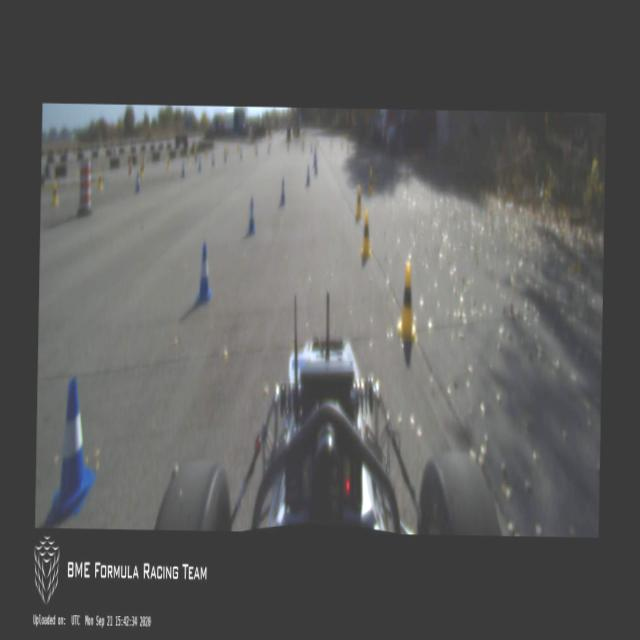blue_cone: (52, 375, 97, 514), (195, 242, 212, 304), (246, 198, 256, 235), (278, 178, 286, 207), (134, 172, 140, 192), (180, 160, 186, 180), (306, 165, 310, 188), (314, 158, 318, 175), (312, 150, 316, 167), (197, 156, 201, 172), (238, 147, 242, 162), (210, 155, 214, 168), (224, 150, 228, 162), (287, 141, 289, 153), (255, 148, 258, 156), (310, 143, 312, 154), (302, 140, 304, 151), (268, 144, 270, 154)
yellow_cone: (397, 262, 418, 342), (360, 209, 372, 258), (354, 185, 362, 219), (51, 182, 59, 206), (368, 170, 373, 194), (97, 171, 103, 190), (374, 162, 379, 182), (165, 156, 170, 173), (139, 163, 143, 179), (204, 148, 208, 162), (194, 151, 197, 165), (226, 143, 229, 156), (237, 140, 240, 152), (253, 140, 256, 152), (186, 152, 188, 165), (347, 142, 349, 154), (330, 139, 332, 149), (340, 140, 342, 150), (316, 138, 318, 148)
